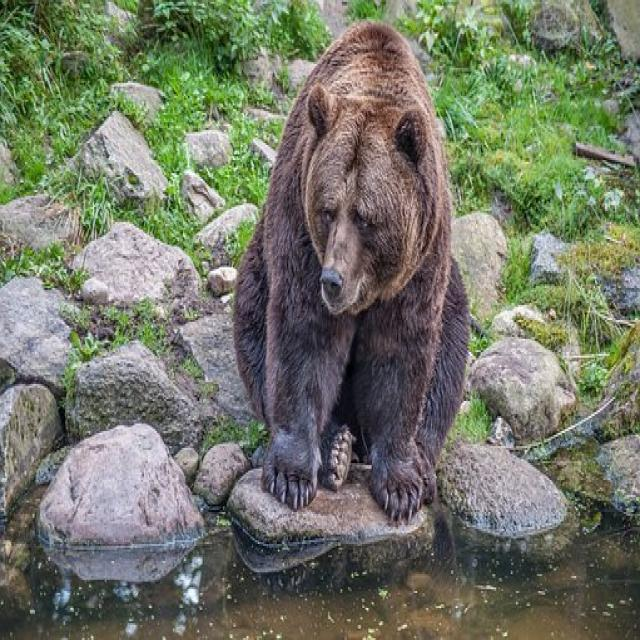Bear: (232, 21, 472, 529)
